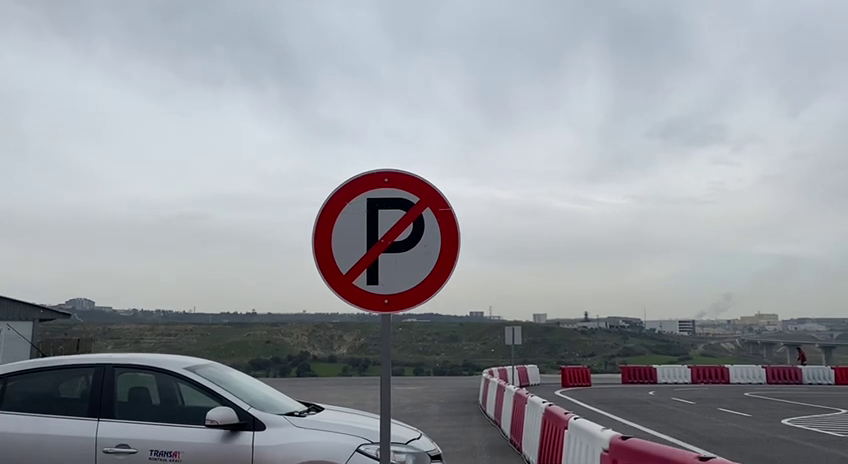noparking: (305, 158, 465, 321)
